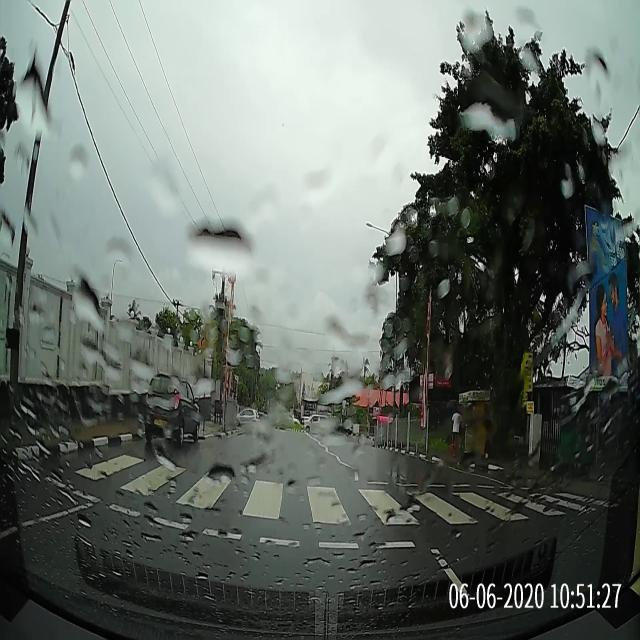Perehod: (41, 440, 630, 555)
